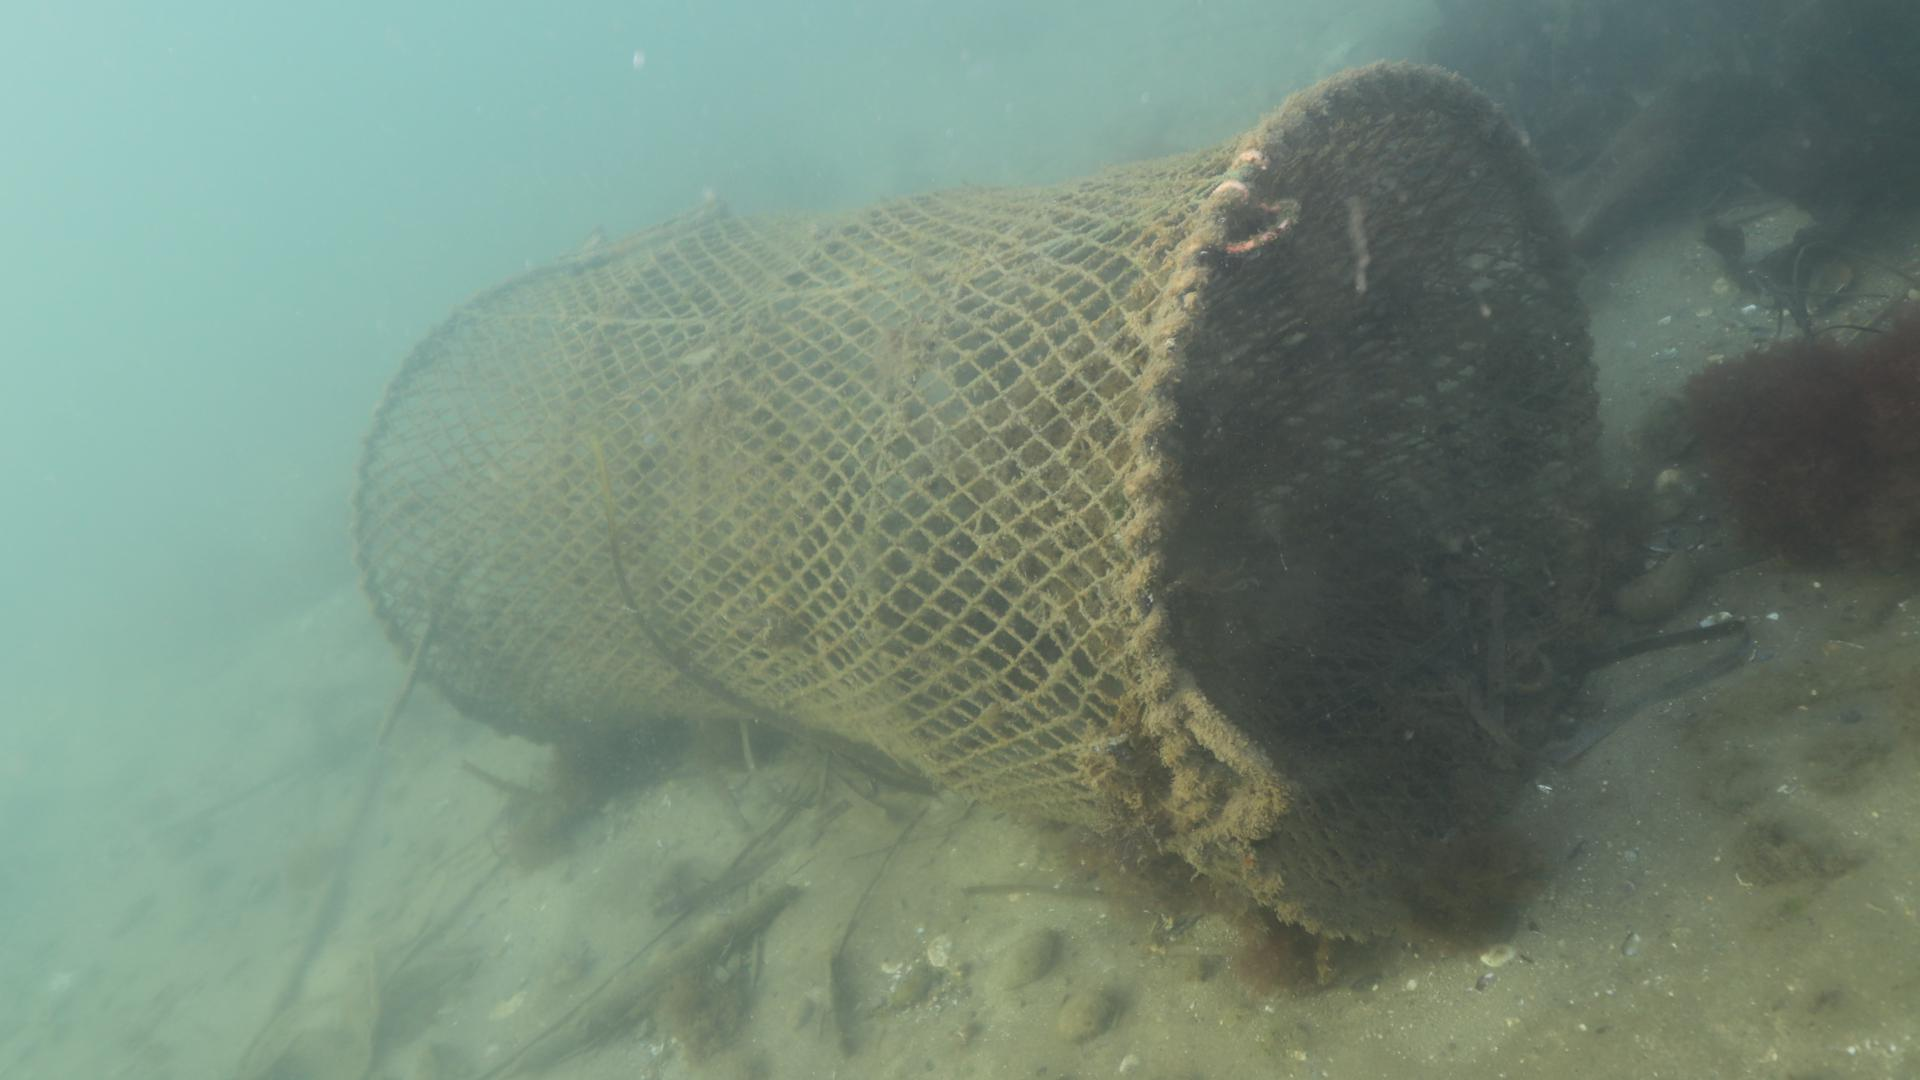spring fish trap: (349, 55, 1615, 955)
